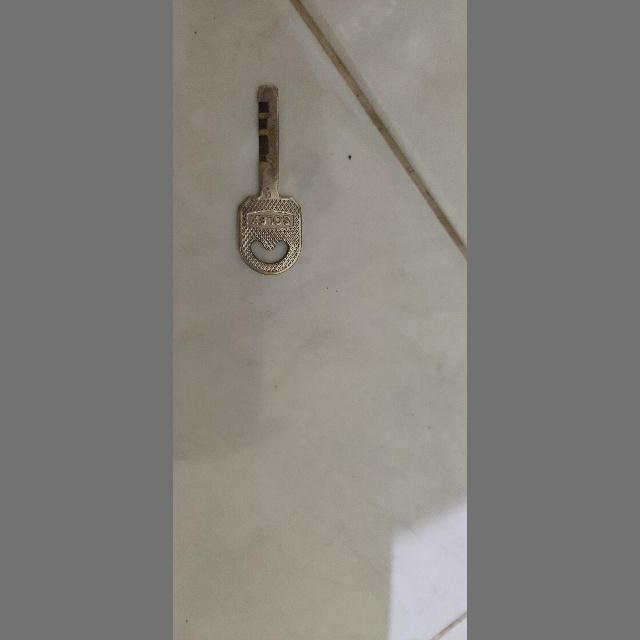Keys: (228, 70, 308, 278)
